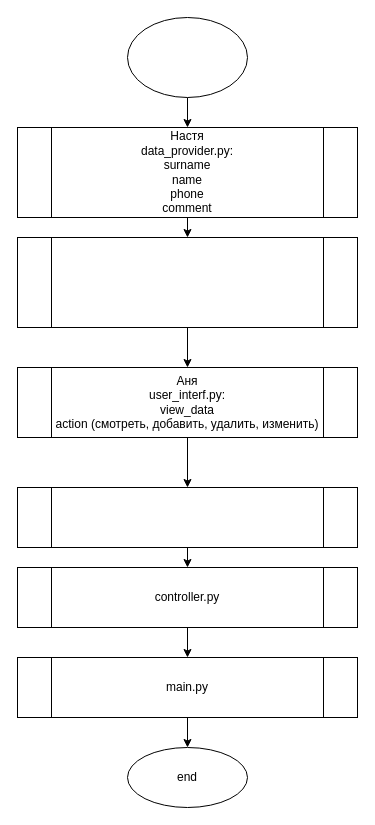
The diagram is 375 pixels wide and 825 high, and some of its shapes have lost their labels. Each missing label, with the centre of its shape:
"start" belongs at point 187,57.
"Илья xml_creater.py" belongs at point 187,517.
"Эльвира logger.py: surname_logger name_logger phone_logger comment_logger" belongs at point 187,282.
